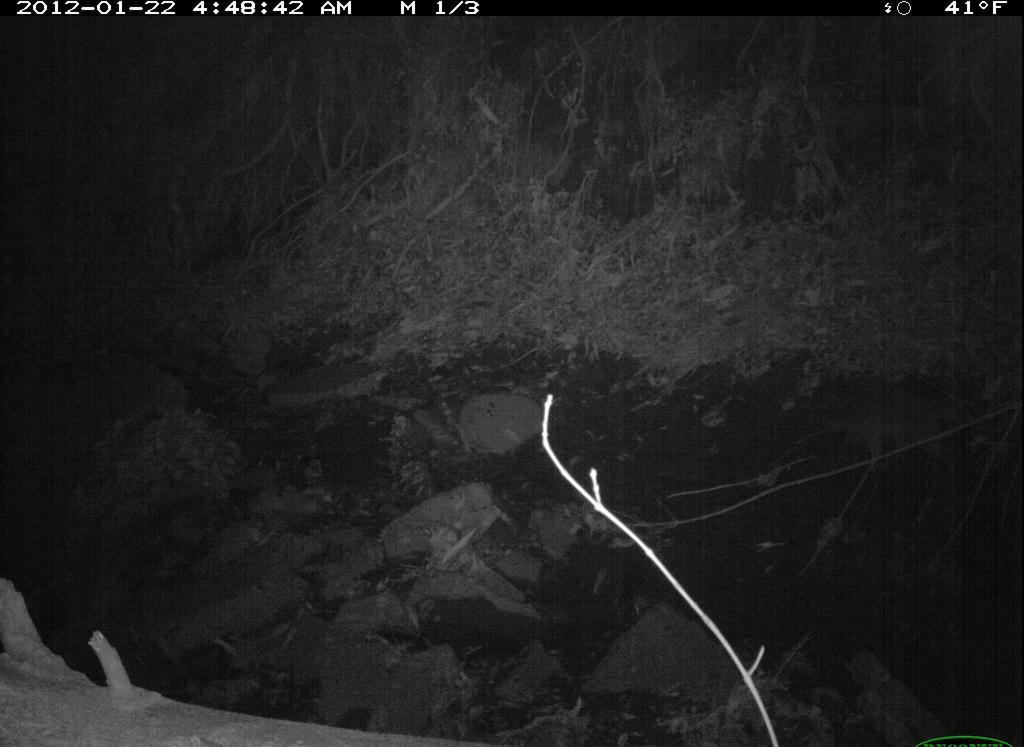raccoon: (753, 346, 967, 475)
